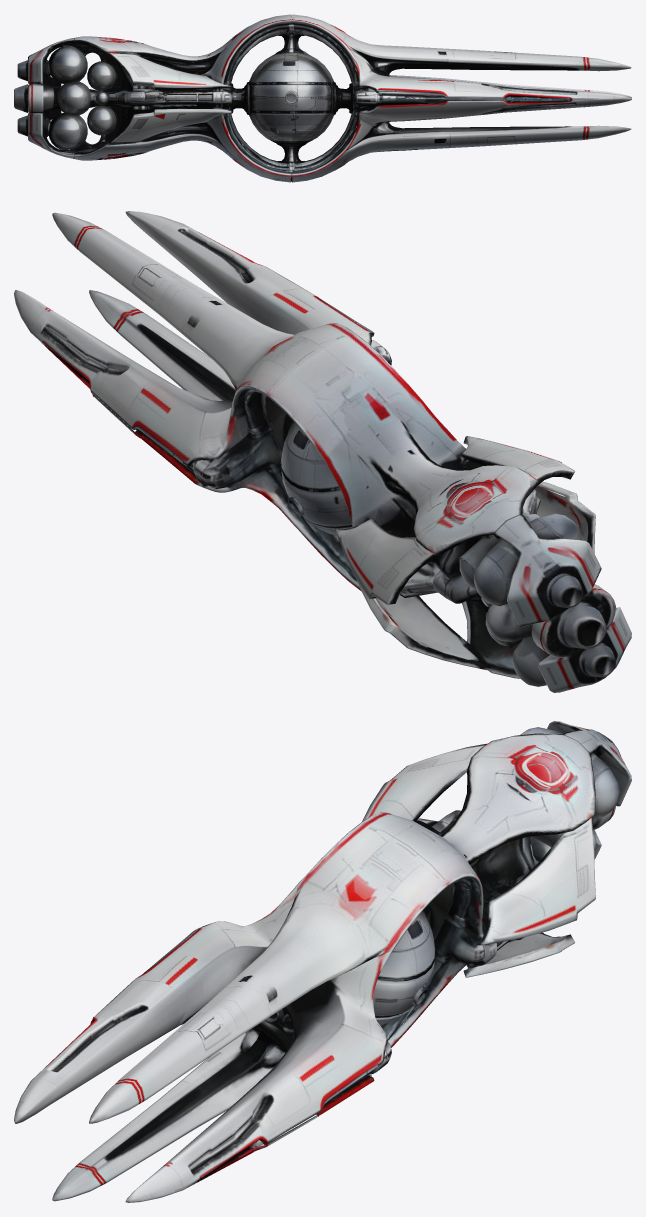
The model's file is espionage_probe-v1.glb.
The picture shows the model from 3 angles, top to bottom: view 1: azimuth 30°, elevation 25°; view 2: azimuth 150°, elevation 25°; view 3: azimuth 270°, elevation 25°; orthographic projection. The views are drawn at different scales.
Visible parts, largest first — view 1: d7605f82_cf73_47ca_9b35_499a8d16986b; view 2: d7605f82_cf73_47ca_9b35_499a8d16986b; view 3: d7605f82_cf73_47ca_9b35_499a8d16986b.
Boxes of the visible parts, box(x1,y1,x2,y2) form: d7605f82_cf73_47ca_9b35_499a8d16986b: box(14, 14, 631, 182); d7605f82_cf73_47ca_9b35_499a8d16986b: box(14, 211, 631, 692); d7605f82_cf73_47ca_9b35_499a8d16986b: box(14, 721, 631, 1202).
Size of the model in its own units: 1.32 by 0.3998 by 0.8609.
Materials: 1 (1 with a texture image).
